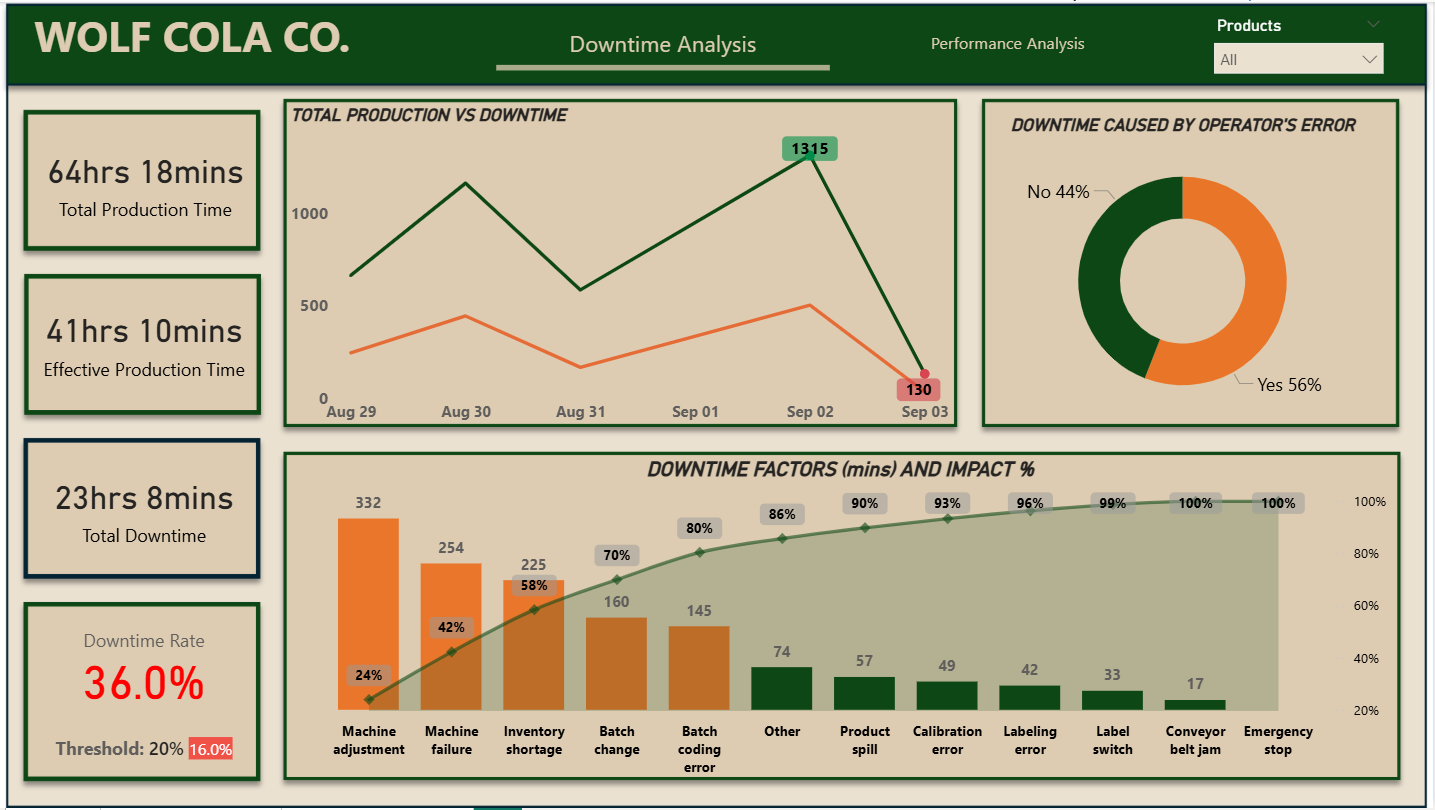

Layout of this report page (visuals, bound fields, positions):
{"tool":"powerbi","page":{"name":"Downtime Analysis","canvas":[1280,720],"ordinal":1},"visuals":[{"type":"card","fields":{"Values":["_Measures.Total Downtime"]},"box":[25.7,405.3,208.8,132.9],"z":0},{"type":"card","fields":{"Values":["_Measures.Downtime Rate"]},"box":[25.7,557.2,208.8,125.1],"z":1000},{"type":"card","fields":{"Values":["_Measures.Effective Production Time"]},"box":[25.7,254.6,208.8,126.2],"z":2000},{"type":"card","fields":{"Values":["_Measures.Total Production Time"]},"box":[25.7,100.5,208.8,120.6],"z":3000},{"type":"slicer","fields":{"Values":["Products.Product"]},"box":[1074.2,7.8,172,67],"z":4000},{"type":"lineClusteredColumnComboChart","title":"DOWNTIME  FACTORS (Mins) AND IMPACT","fields":{"Category":["Downtime factors.Description"],"Y":["_Measures.Total Downtime","select"],"Y2":["select1"]},"box":[243.4,405.3,1011.7,288.1],"z":5000},{"type":"donutChart","title":"DOWNTIME CAUSED BY OPERATOR''S ERROR","fields":{"Y":["_Measures.Downtime Rate"],"Category":["Downtime factors.Operator Error"]},"box":[837.2,100,409.3,280.2],"z":6000},{"type":"textbox","box":[25.6,0,348.8,74.4],"z":7000},{"type":"pageNavigator","box":[443.3,11.2,607.4,50.2],"z":8000},{"type":"lineChart","title":"TOTAL PRODUCTION VS DOWNTIME","fields":{"Category":["Calender.Date"],"Y":["_Measures.Total Production Time Mins","_Measures.Max Production","_Measures.Total Downtime mins","_Measures.Min Production"]},"box":[254.7,91.9,555.8,294.2],"z":9000}]}

Visuals, with their boxes in screenshot pixels (x1, y1, x2, y2), scaled from the page's 1280x720 canvas onto the 1435x810 screenshot:
card - _Measures.Total Downtime: 29, 456, 263, 605
card - _Measures.Downtime Rate: 29, 627, 263, 768
card - _Measures.Effective Production Time: 29, 286, 263, 428
card - _Measures.Total Production Time: 29, 113, 263, 249
slicer - Products.Product: 1204, 9, 1397, 84
"DOWNTIME  FACTORS (Mins) AND IMPACT" lineClusteredColumnComboChart: 273, 456, 1407, 780
"DOWNTIME CAUSED BY OPERATOR''S ERROR" donutChart: 939, 112, 1397, 428
textbox: 29, 0, 420, 84
pageNavigator: 497, 13, 1178, 69
"TOTAL PRODUCTION VS DOWNTIME" lineChart: 286, 103, 909, 434
